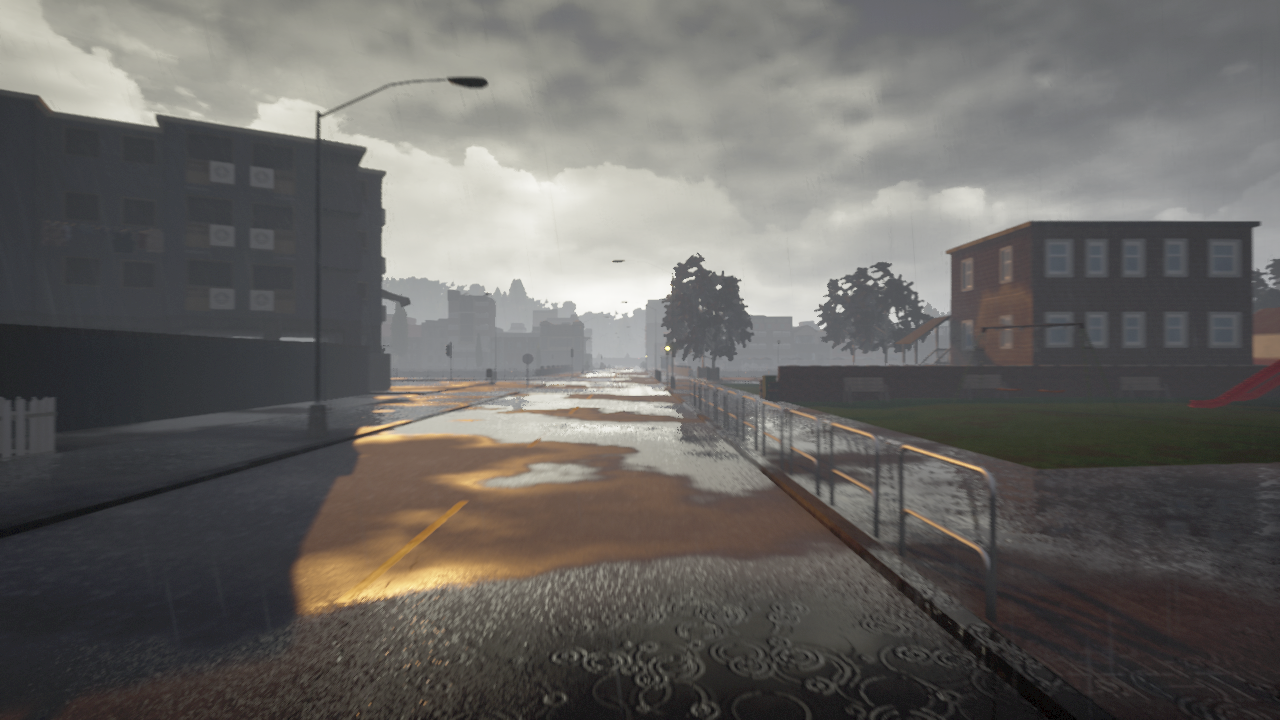yellow: (664, 341, 671, 355)
